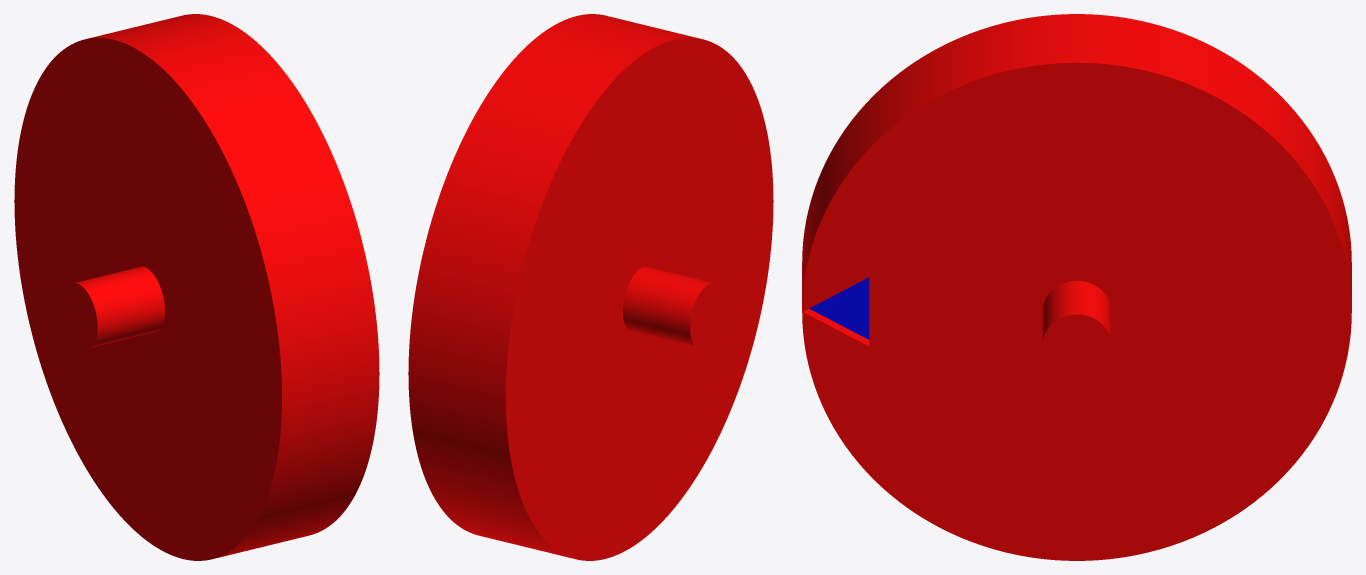
File: rotor.gltf
3 renders of one model, left to right at view 1: azimuth 30°, elevation 25°; view 2: azimuth 150°, elevation 25°; view 3: azimuth 270°, elevation 25°, orthographic. The views are drawn at different scales.
Parts seen in each view (by area): view 1: Part 3; view 2: Part 3; view 3: Part 3.
Boxes of the visible parts, x1=… form: Part 3: x1=14, y1=14, x2=379, y2=560; Part 3: x1=408, y1=14, x2=773, y2=560; Part 3: x1=802, y1=14, x2=1351, y2=560.
Size of the model in its own units: 0.02 by 0.04 by 0.04.
